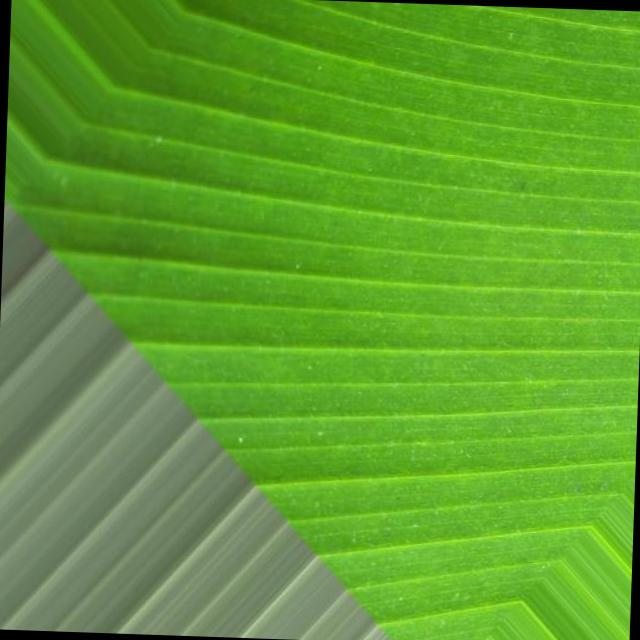Banana_Healthy: (203, 60, 568, 422)
